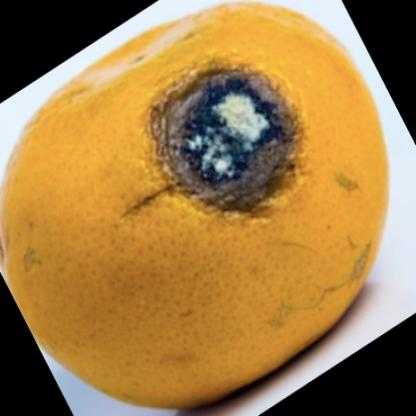rotten: (10, 5, 391, 405)
